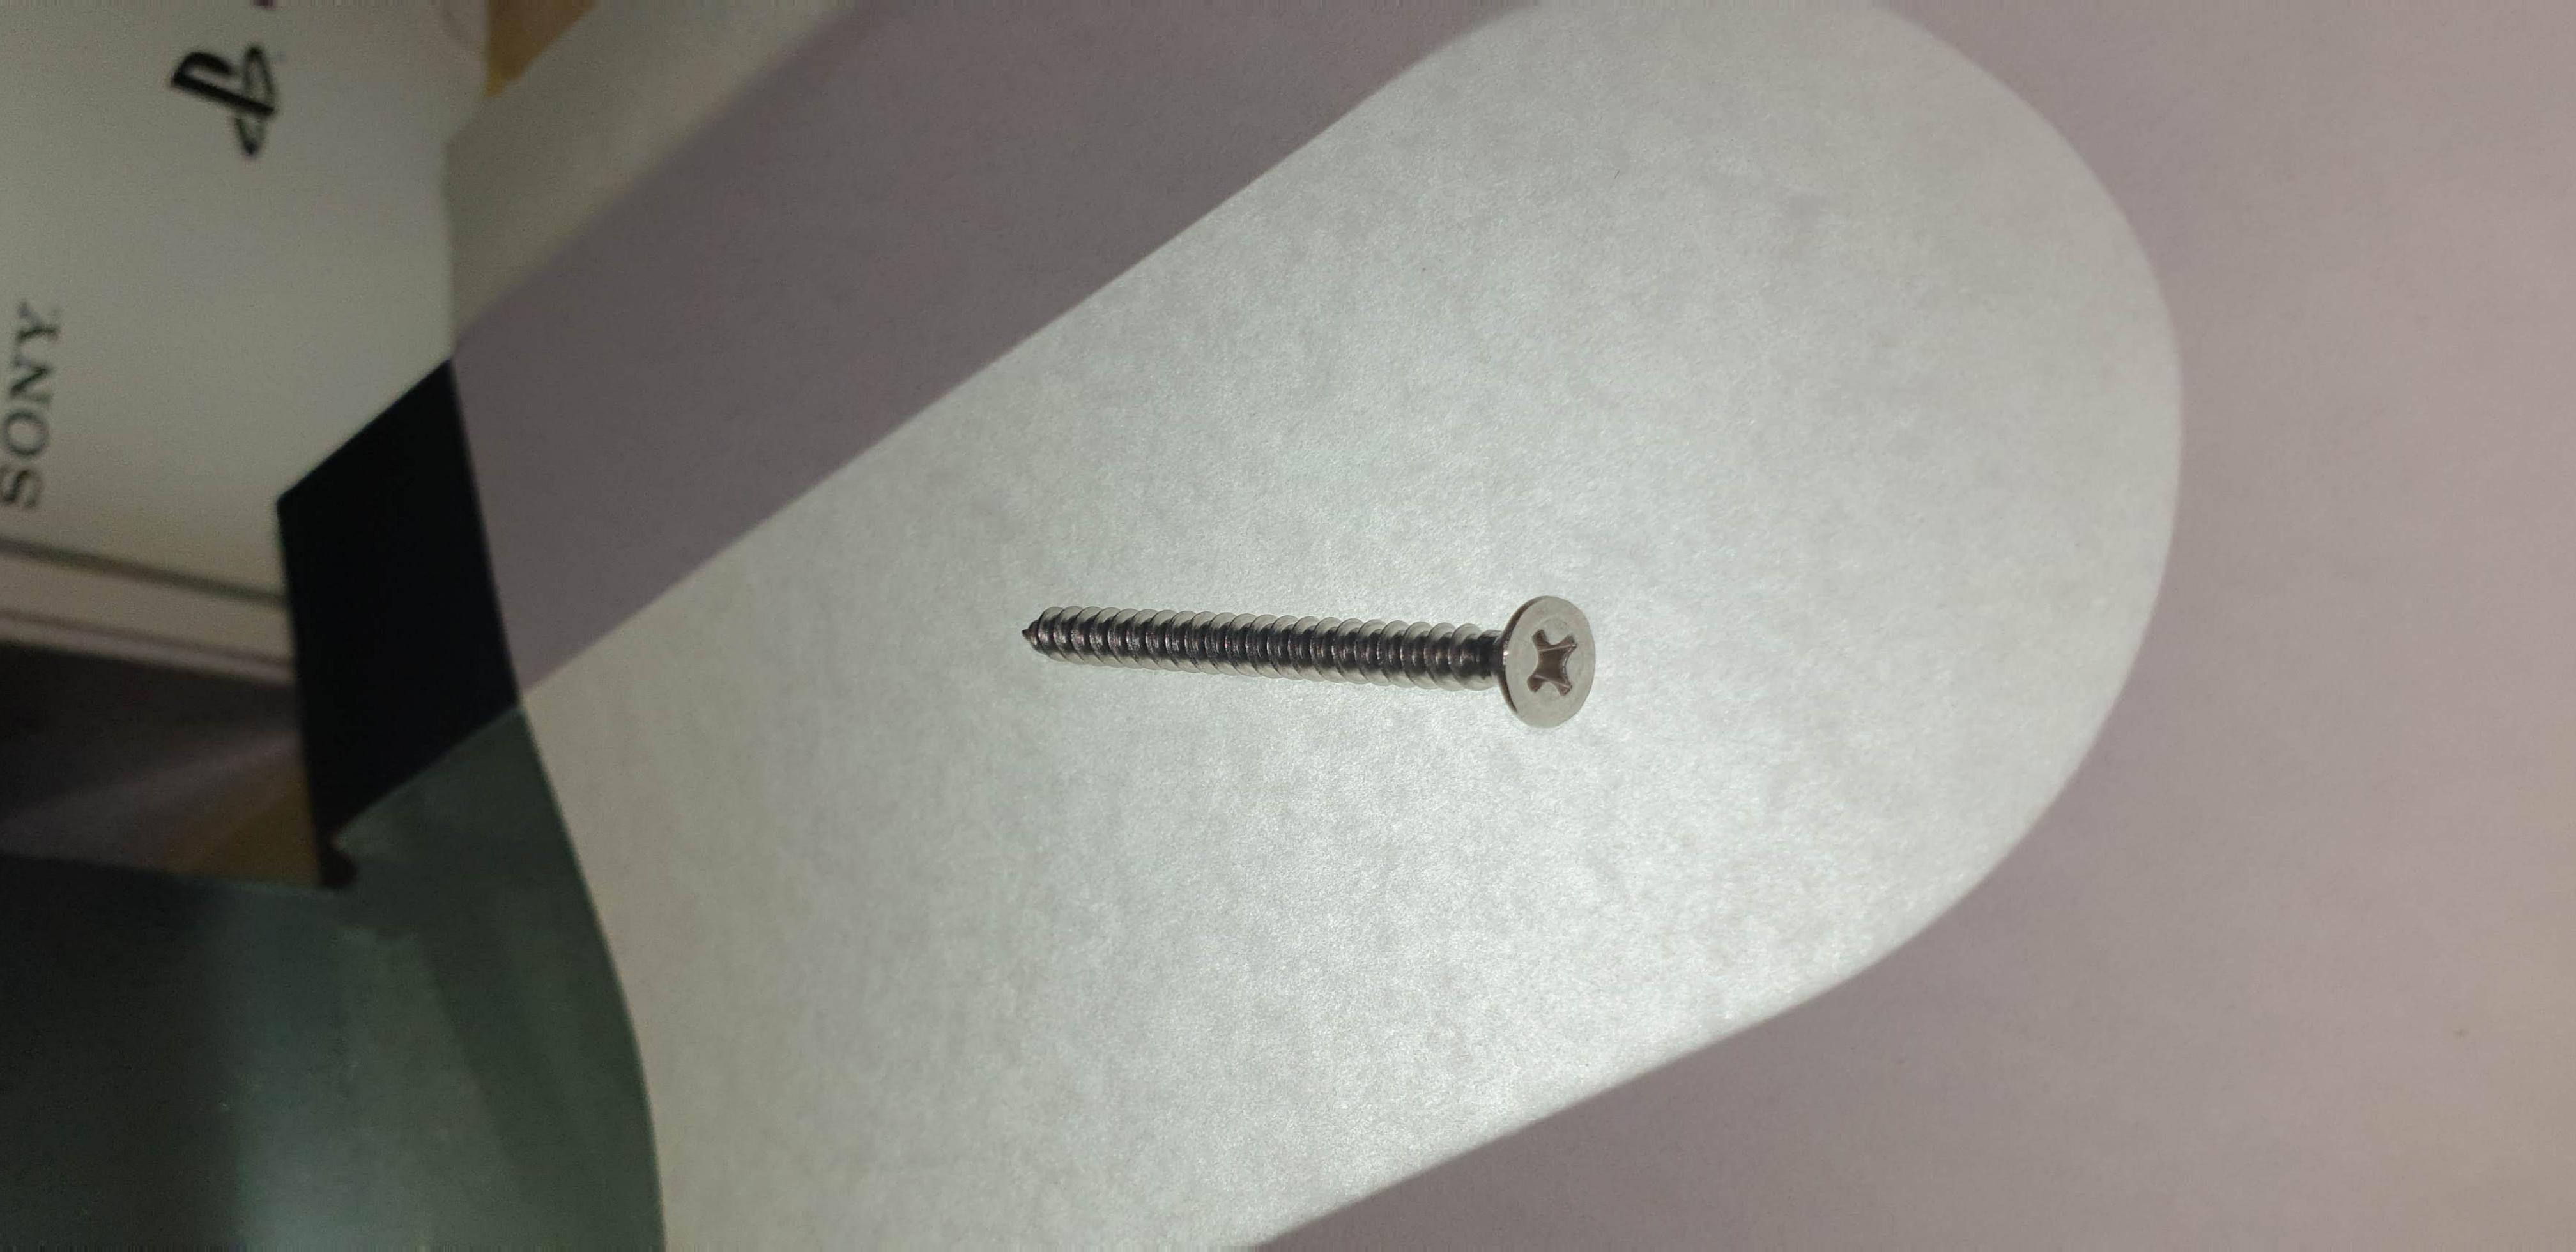fastener: (966, 544, 1636, 784)
